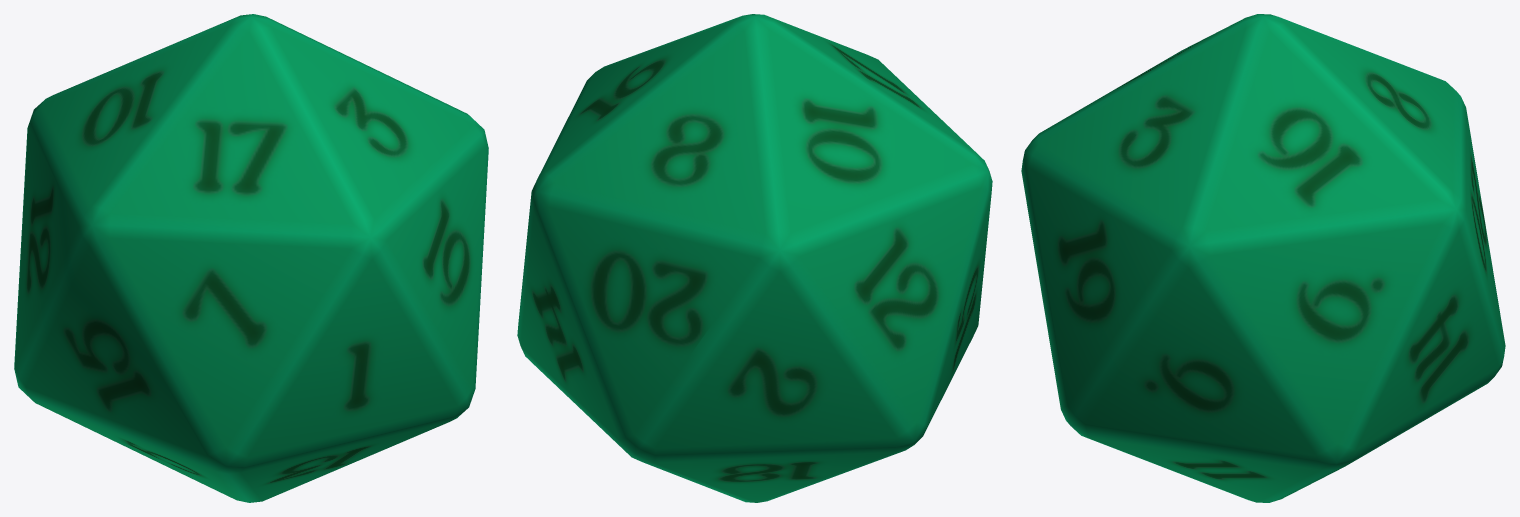
3 renders of one model, left to right at view 1: azimuth 30°, elevation 25°; view 2: azimuth 150°, elevation 25°; view 3: azimuth 270°, elevation 25°, orthographic.
Parts seen in each view (by area): view 1: D20_green; view 2: D20_green; view 3: D20_green.
Boxes of the visible parts, x1=… form: D20_green: x1=14, y1=14, x2=488, y2=502; D20_green: x1=517, y1=14, x2=992, y2=502; D20_green: x1=1021, y1=14, x2=1505, y2=502.
Bounding box in the file's own units: 0.8402 × 0.9648 × 0.8757.
1 material, 1 textured.
